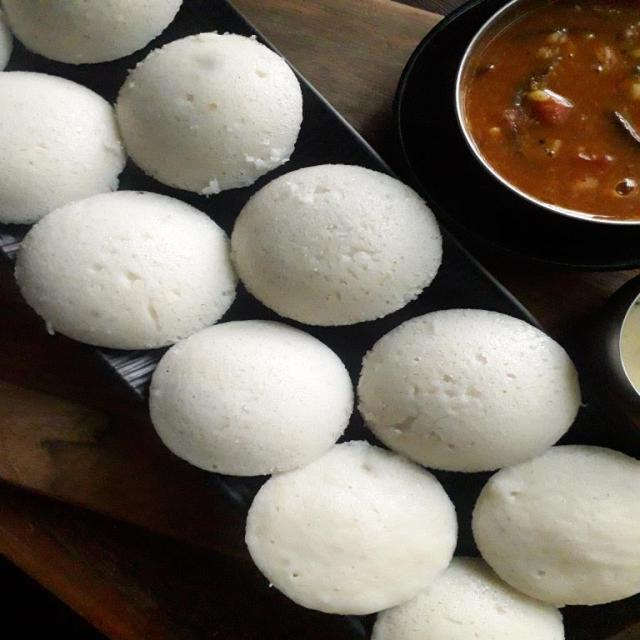IDLI: (238, 438, 462, 611), (18, 187, 236, 351), (362, 313, 585, 470), (234, 164, 450, 326), (110, 29, 308, 201), (153, 325, 347, 473), (467, 451, 635, 605), (2, 82, 121, 224), (8, 1, 178, 64)
